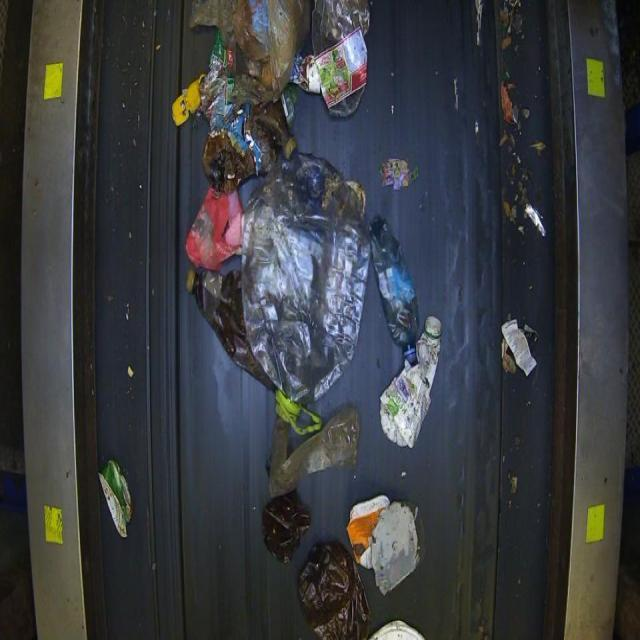cups: (297, 26, 369, 116)
trashbin: (7, 0, 632, 639)
